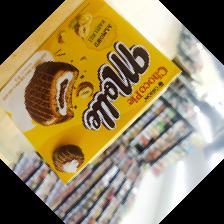Molle: (1, 1, 183, 184)
